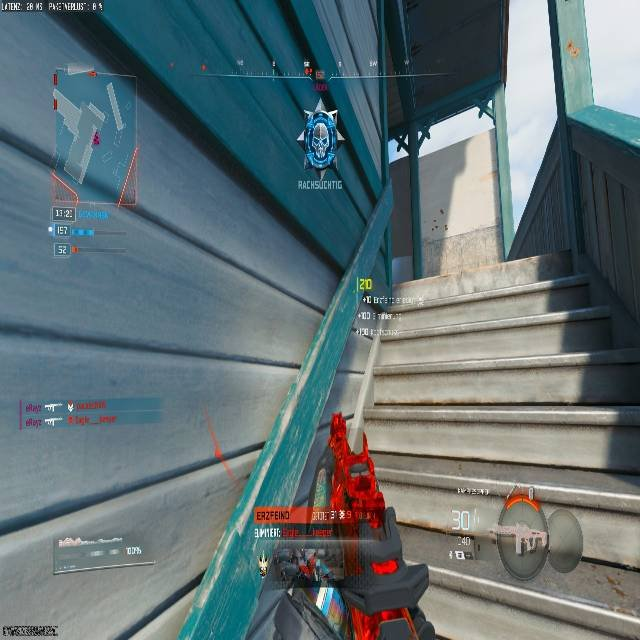player: (257, 539, 334, 640), (296, 95, 344, 181)
